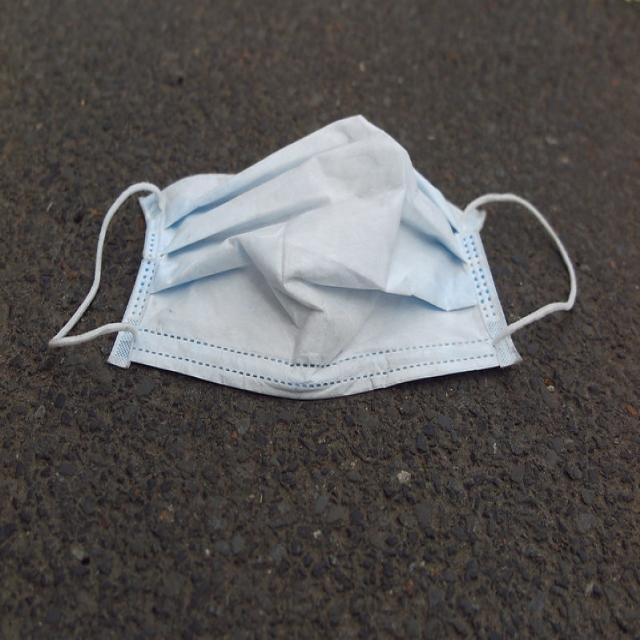face mask: (47, 116, 575, 374)
